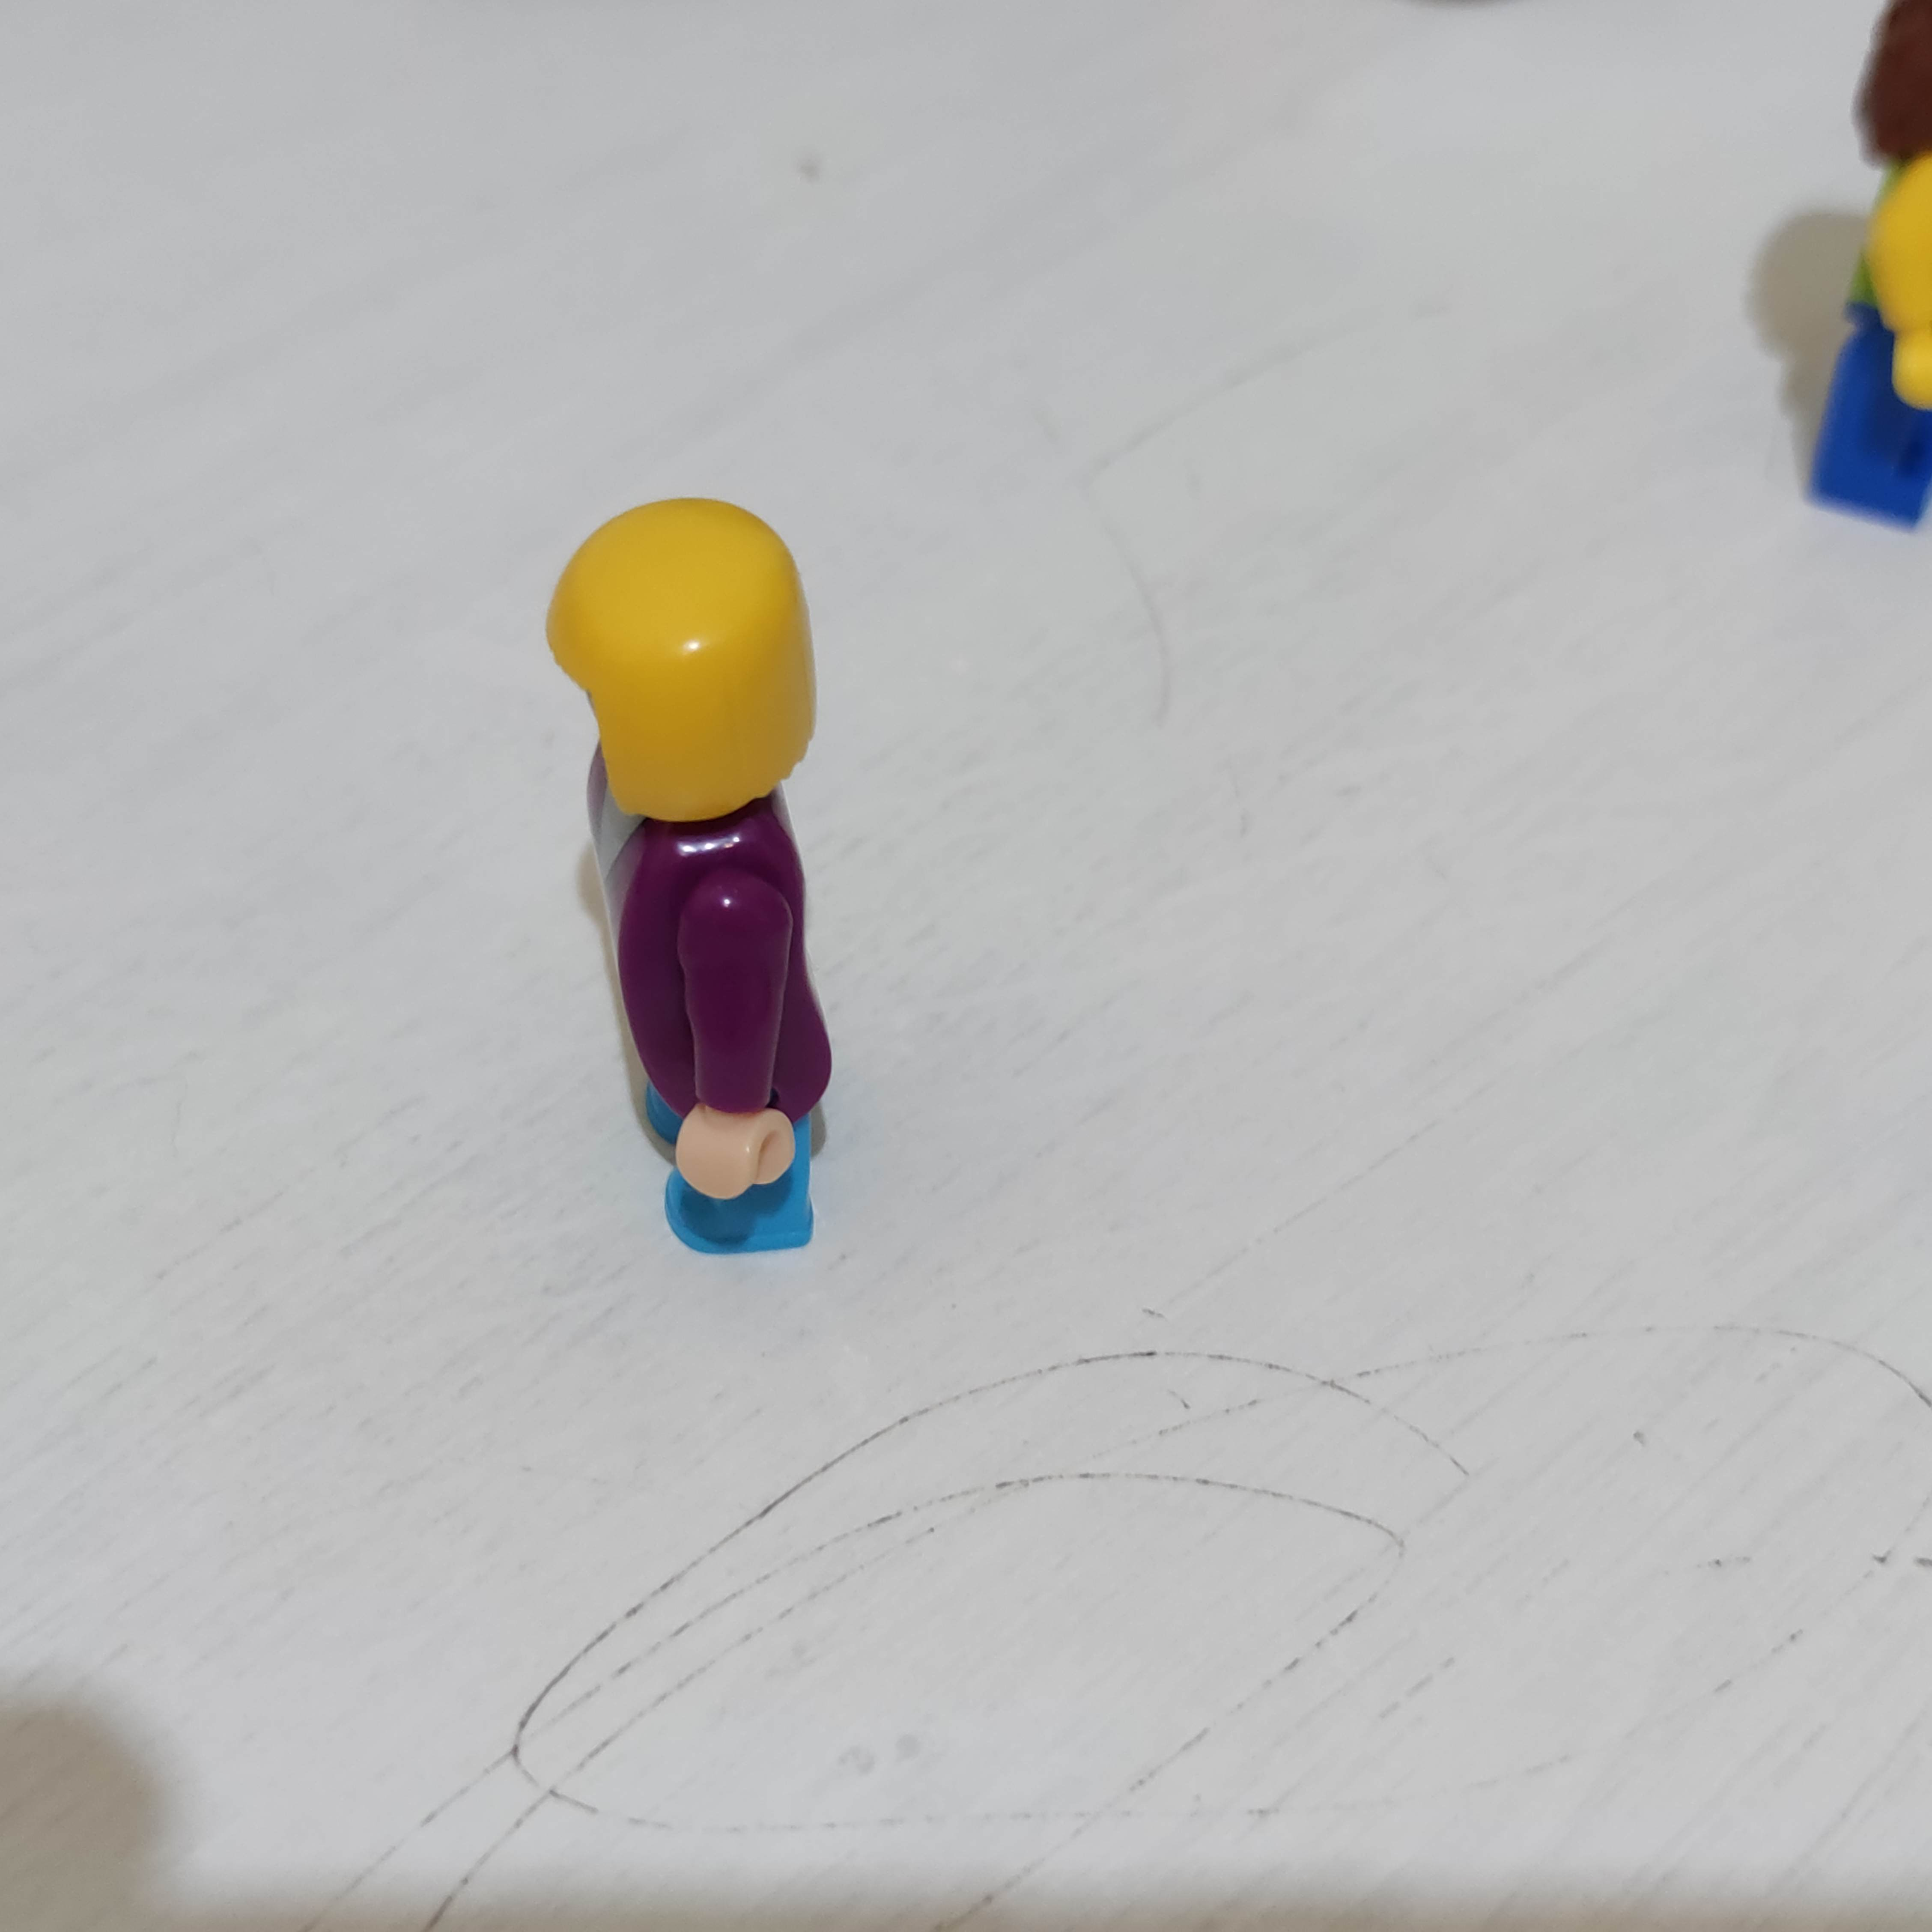lego: (545, 492, 844, 1260)
